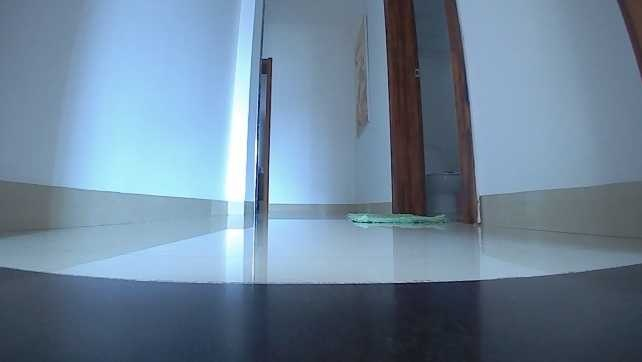blanket: (342, 207, 450, 226)
toilet: (424, 163, 461, 215)
